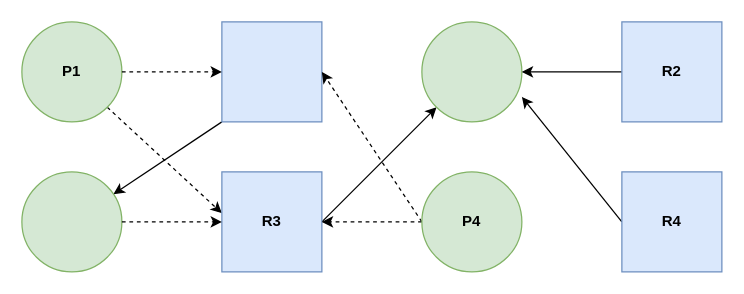
The diagram is 744 pixels wide and 294 high, and some of its shapes have lost their labels. Here are the shapes that lost their labels. From the top down, the centre of each, then its label:
At [271,71]: "R1".
At [471,71]: "P2".
At [71,221]: "P3".
